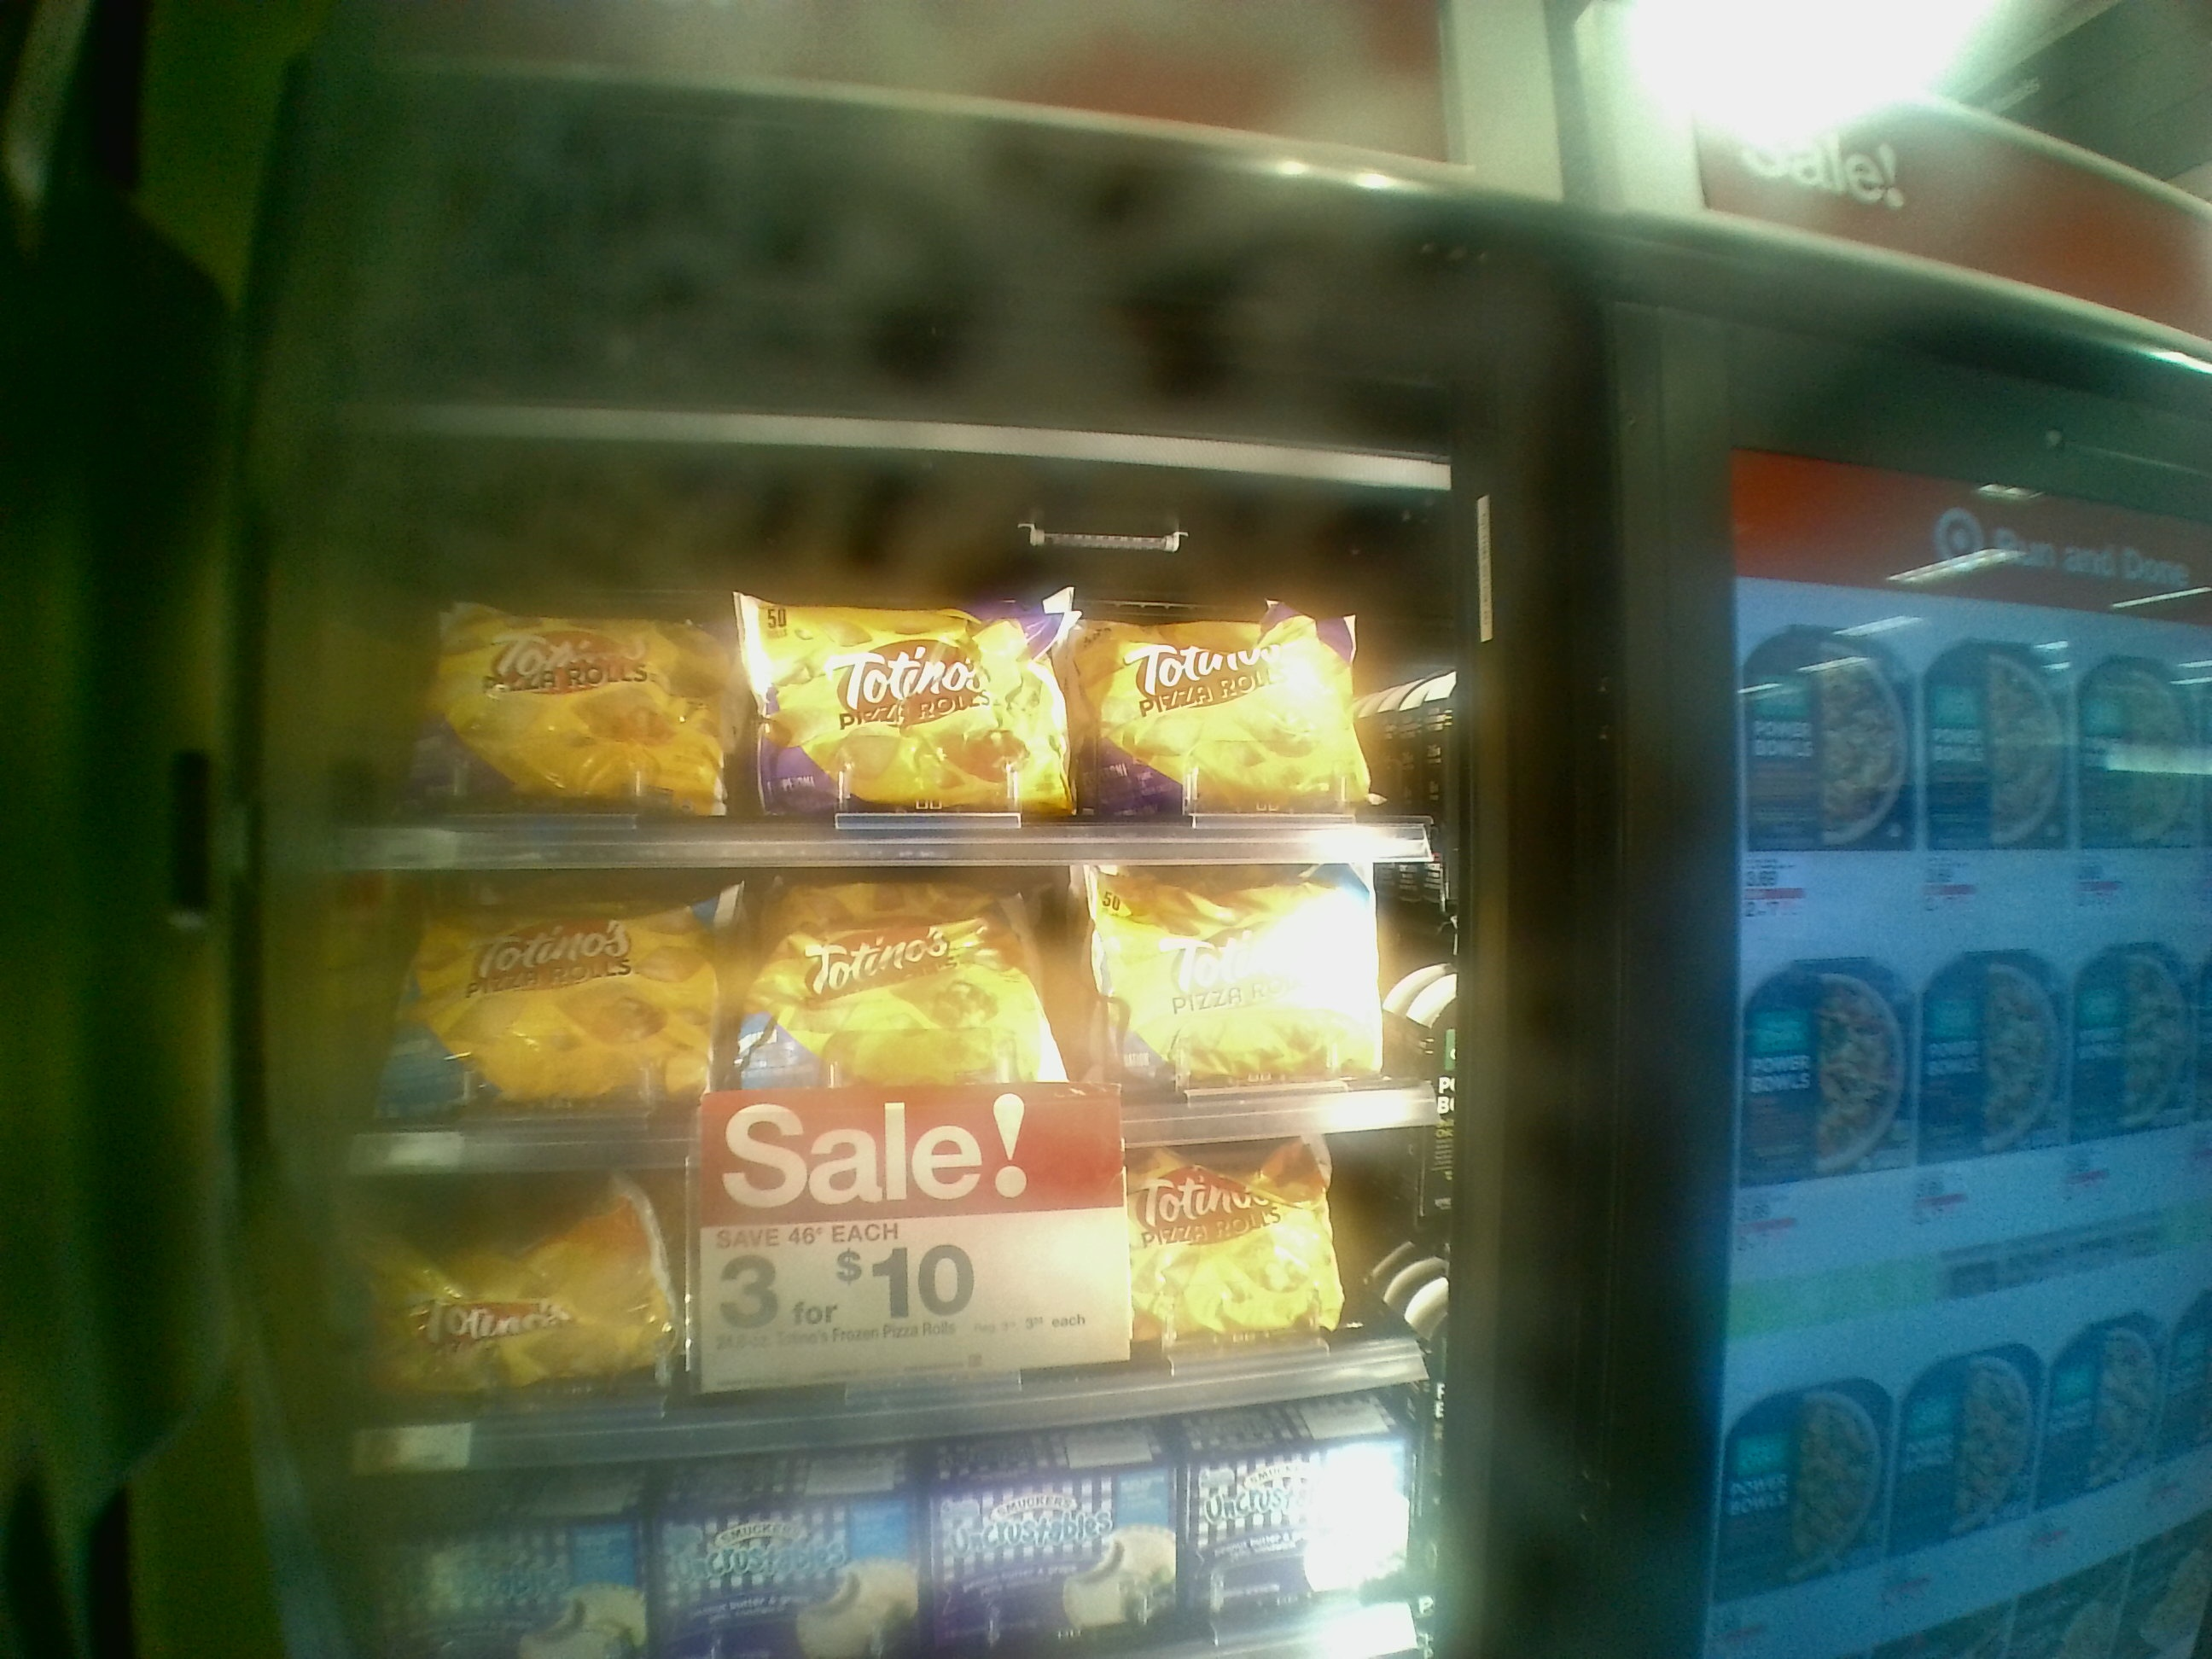shelf: (324, 504, 1428, 838), (333, 850, 1426, 1134), (324, 1127, 1428, 1405)
